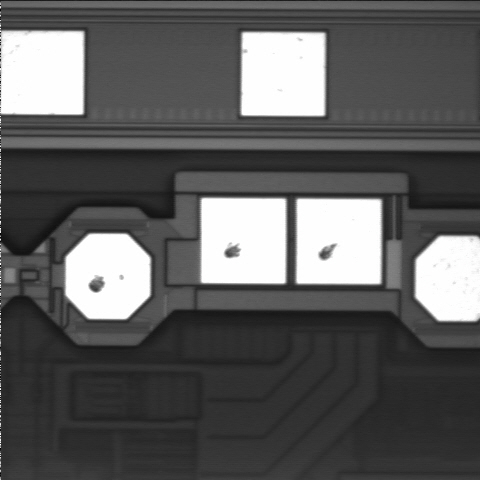pad: (201, 198, 286, 283), (297, 199, 381, 284), (66, 234, 150, 319), (241, 32, 325, 116)
